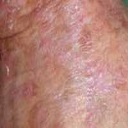Actinic: (1, 1, 62, 29), (3, 75, 42, 110), (76, 30, 97, 54), (118, 15, 128, 33)
